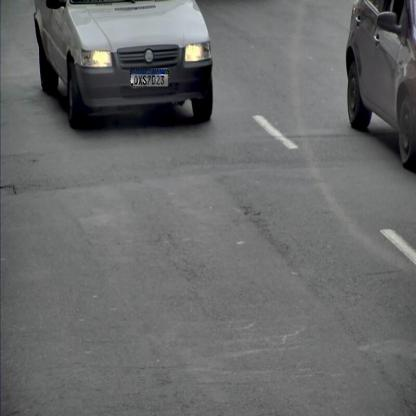PlacaM: (130, 70, 169, 88)
